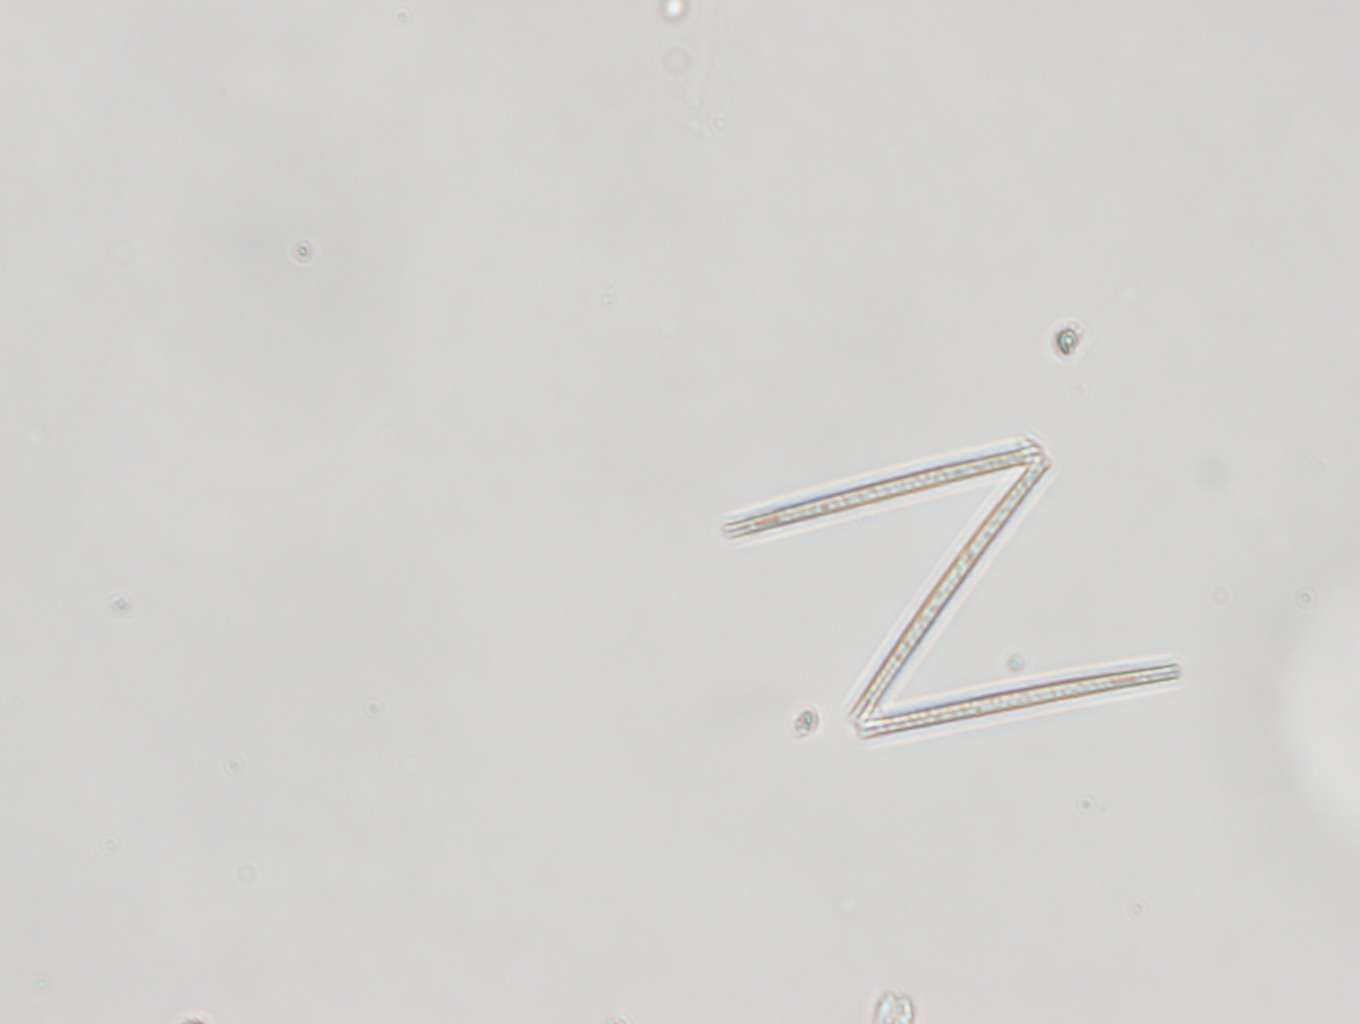thalassionema nitzschioides: (715, 435, 1185, 740)
